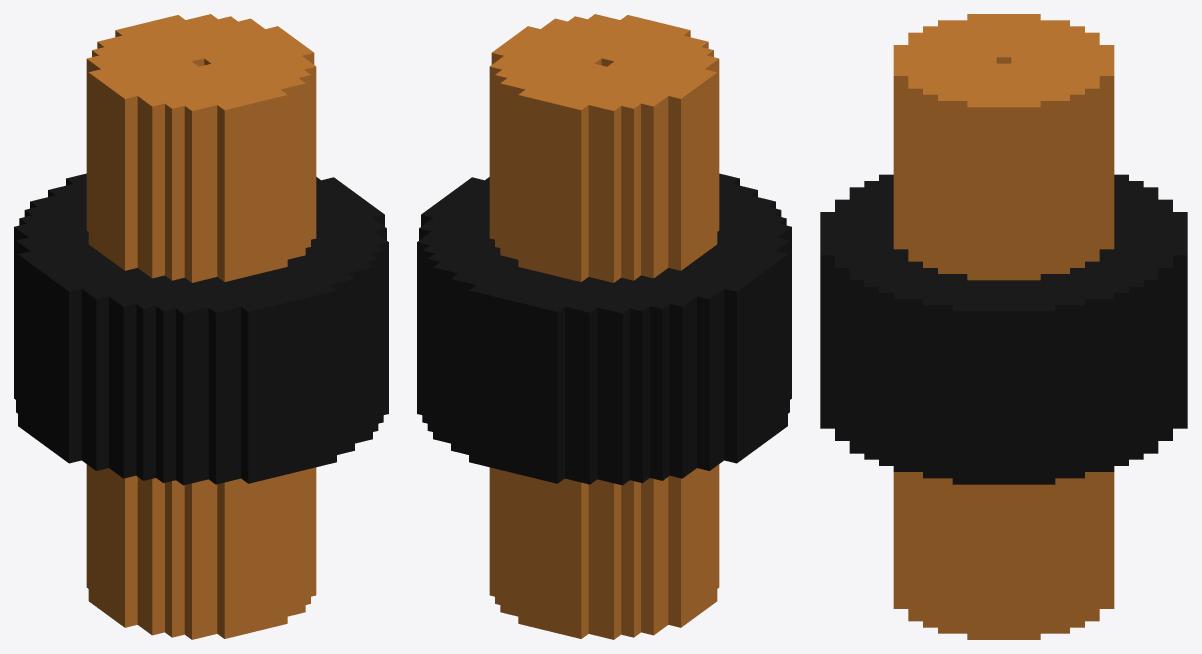
File: cable_block.obj
3 renders of one model, left to right at view 1: azimuth 30°, elevation 25°; view 2: azimuth 150°, elevation 25°; view 3: azimuth 270°, elevation 25°, orthographic.
Parts seen in each view (by area): view 1: cable_block; view 2: cable_block; view 3: cable_block.
Boxes of the visible parts, box(x1,y1,x2,y2) form: cable_block: box(14, 14, 388, 639); cable_block: box(417, 14, 791, 639); cable_block: box(820, 14, 1187, 639).
Bounding box in the file's own units: 25 × 40 × 25.
1 material, 1 textured.
